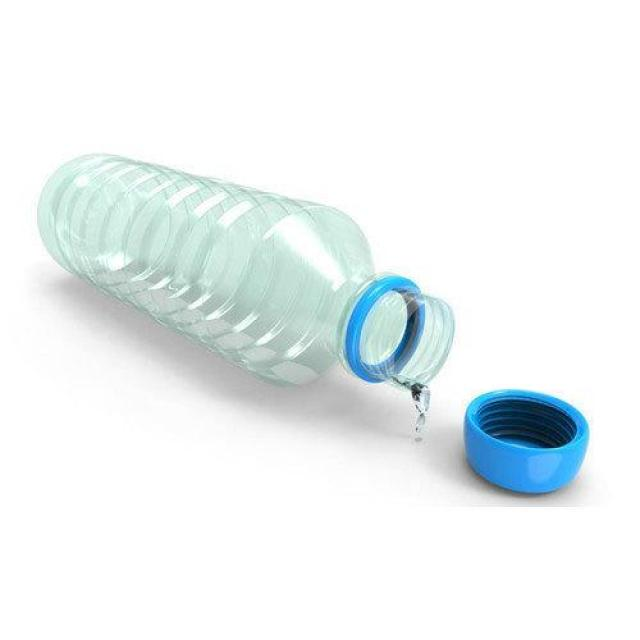bottle: (33, 116, 595, 500)
